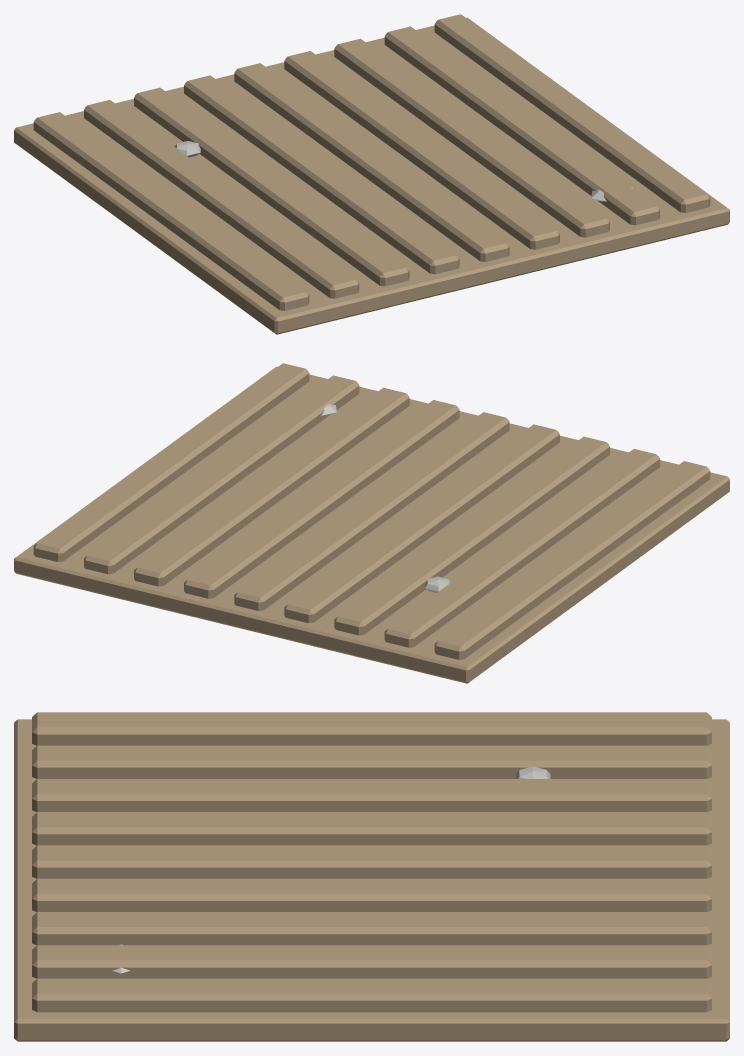
File: ploughed-field-tile.glb
3 views of the same model, one above another, from view 1: azimuth 30°, elevation 25°; view 2: azimuth 150°, elevation 25°; view 3: azimuth 270°, elevation 25° (orthographic). The views are drawn at different scales.
Visible parts, largest first — view 1: ploughed-field-tile; view 2: ploughed-field-tile; view 3: ploughed-field-tile.
Boxes of the visible parts, bbox=[...] form: ploughed-field-tile: bbox=[14, 14, 729, 334]; ploughed-field-tile: bbox=[14, 363, 729, 683]; ploughed-field-tile: bbox=[14, 712, 729, 1041].
Size of the model in its own units: 4 by 0.2399 by 4.
